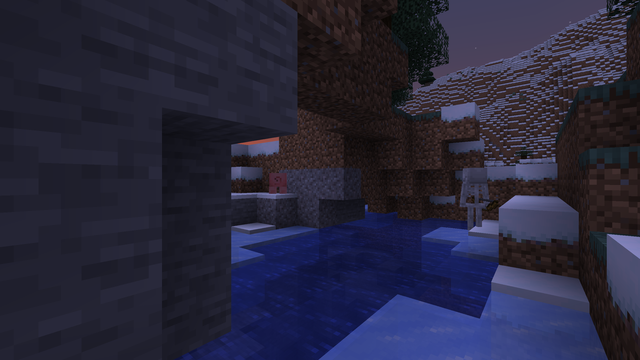cochons: (261, 172, 286, 197)
squelettes: (462, 167, 486, 232)
